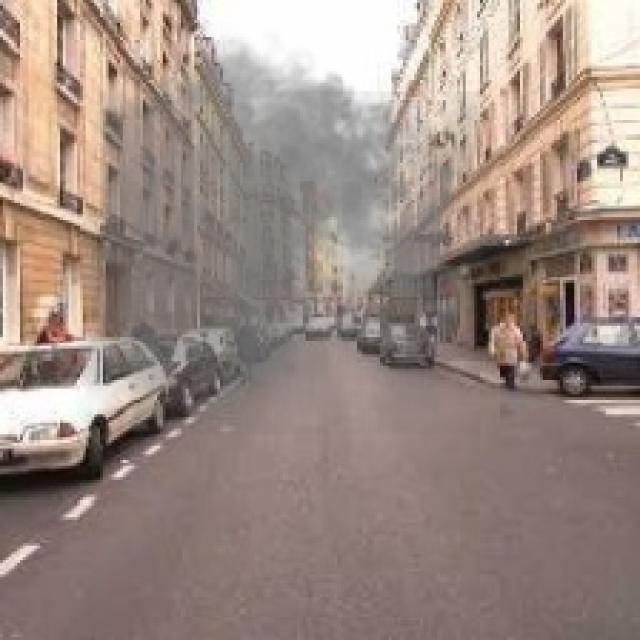smoke: (77, 23, 483, 434)
